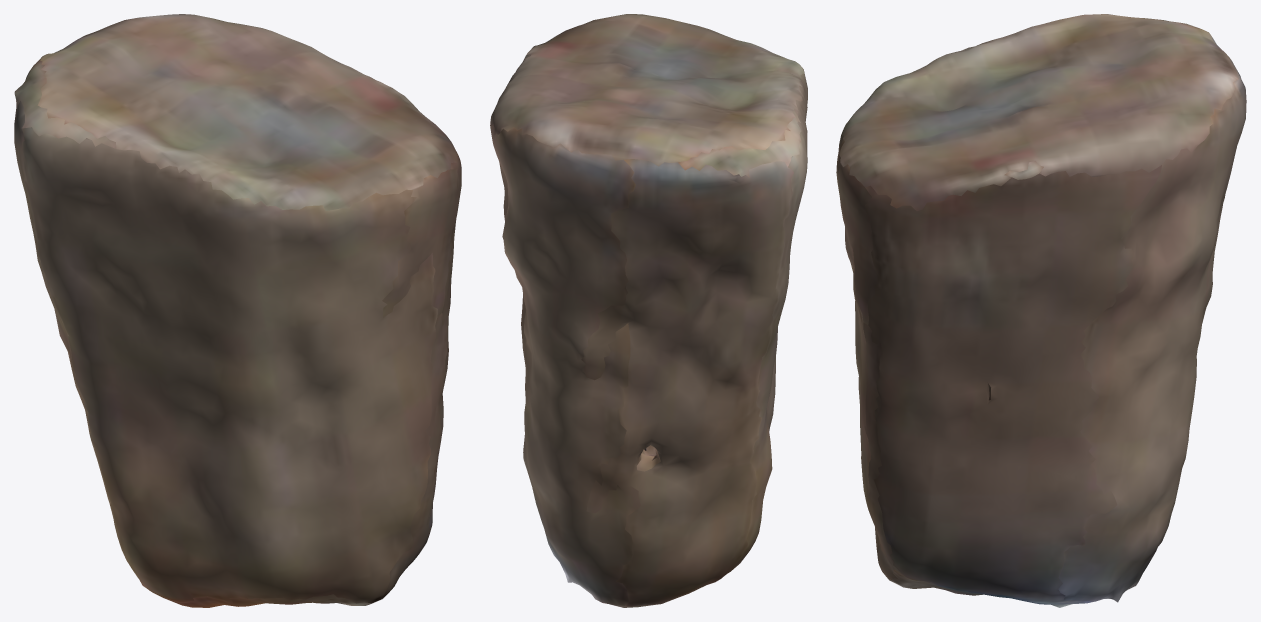
Rendered from 3_vase.glb.
3 views of the same model, side by side, from view 1: azimuth 30°, elevation 25°; view 2: azimuth 150°, elevation 25°; view 3: azimuth 270°, elevation 25° (orthographic).
Visible parts, largest first — view 1: 3_vase; view 2: 3_vase; view 3: 3_vase.
Boxes of the visible parts, x1,y1,x2,y2 form: 3_vase: (14,14,461,607); 3_vase: (490,14,807,607); 3_vase: (836,14,1246,607).
Bounding box in the file's own units: 0.1364 × 0.2061 × 0.1478.
Materials: 1 (1 with a texture image).
